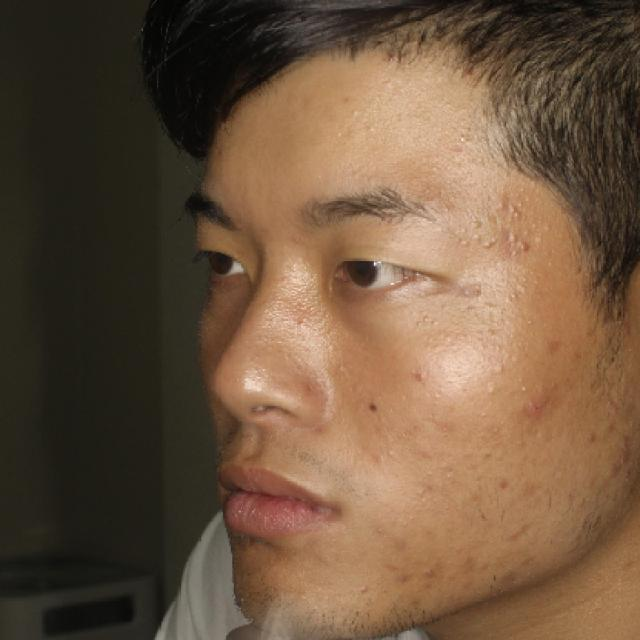Blackheads: (365, 395, 386, 423)
Whiteheads: (406, 360, 439, 388), (449, 124, 478, 150), (366, 445, 392, 469), (491, 358, 517, 378), (514, 376, 537, 398), (478, 234, 502, 255), (500, 230, 526, 248), (491, 195, 512, 217), (291, 311, 311, 334), (506, 206, 525, 228), (452, 232, 474, 251), (466, 214, 486, 232)
